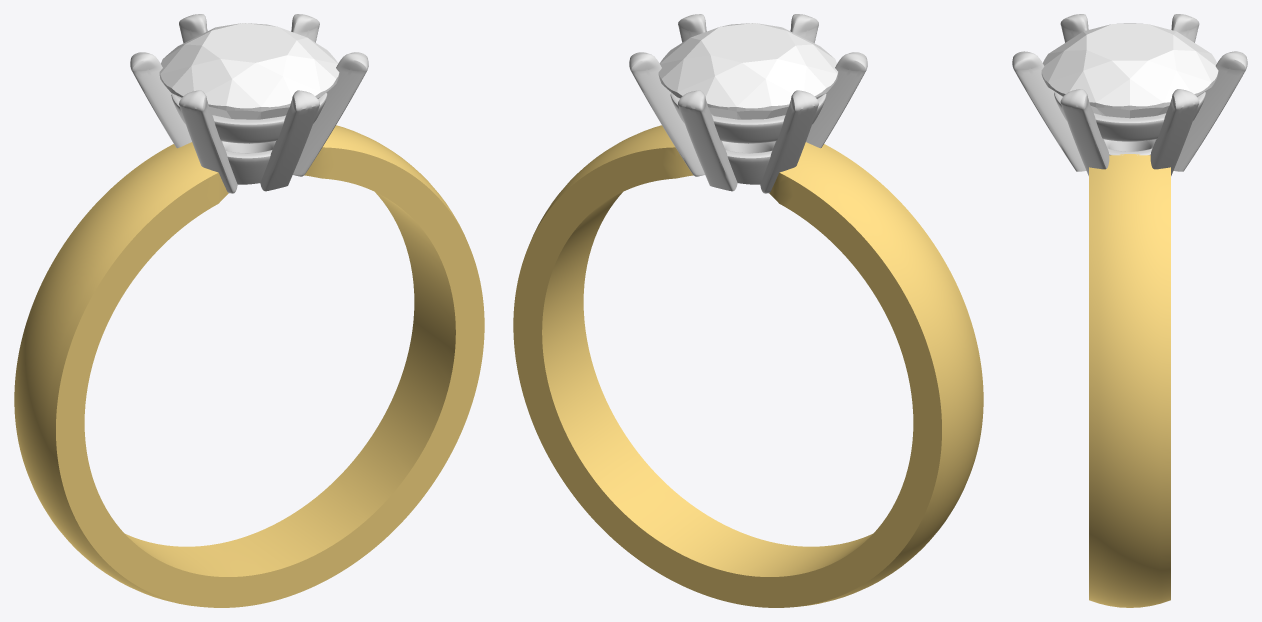
The model's file is BethPT_webgi.glb.
The picture shows the model from 3 angles, left to right: view 1: azimuth 30°, elevation 25°; view 2: azimuth 150°, elevation 25°; view 3: azimuth 270°, elevation 25°; orthographic projection.
Parts seen in each view (by area): view 1: beth_YG_for_3d_model, beth_PT_head_for_3d_model, beth_dia_for_3d_model; view 2: beth_YG_for_3d_model, beth_PT_head_for_3d_model, beth_dia_for_3d_model; view 3: beth_YG_for_3d_model, beth_PT_head_for_3d_model, beth_dia_for_3d_model.
Part boxes in pixels (bbox=[...]): beth_YG_for_3d_model: bbox=[14, 125, 484, 607]; beth_PT_head_for_3d_model: bbox=[130, 14, 368, 193]; beth_dia_for_3d_model: bbox=[159, 23, 339, 143]; beth_YG_for_3d_model: bbox=[513, 125, 983, 607]; beth_PT_head_for_3d_model: bbox=[629, 14, 867, 193]; beth_dia_for_3d_model: bbox=[658, 23, 838, 143]; beth_YG_for_3d_model: bbox=[1089, 154, 1170, 607]; beth_PT_head_for_3d_model: bbox=[1012, 14, 1247, 175]; beth_dia_for_3d_model: bbox=[1041, 23, 1218, 118].
Size of the model in its own units: 2.46 by 2.93 by 1.15.
